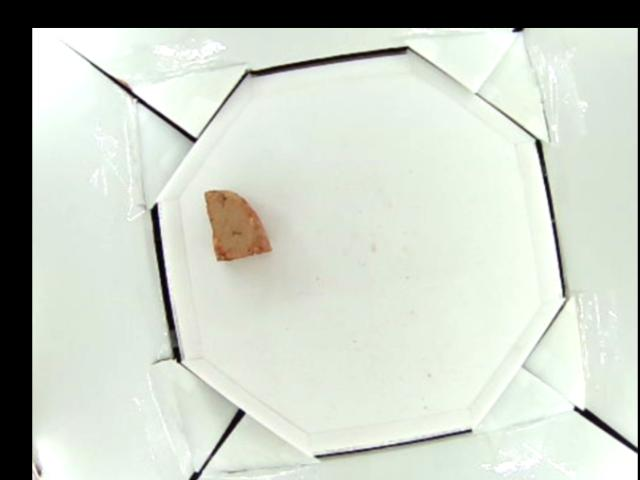Brisk: (200, 186, 271, 261)
